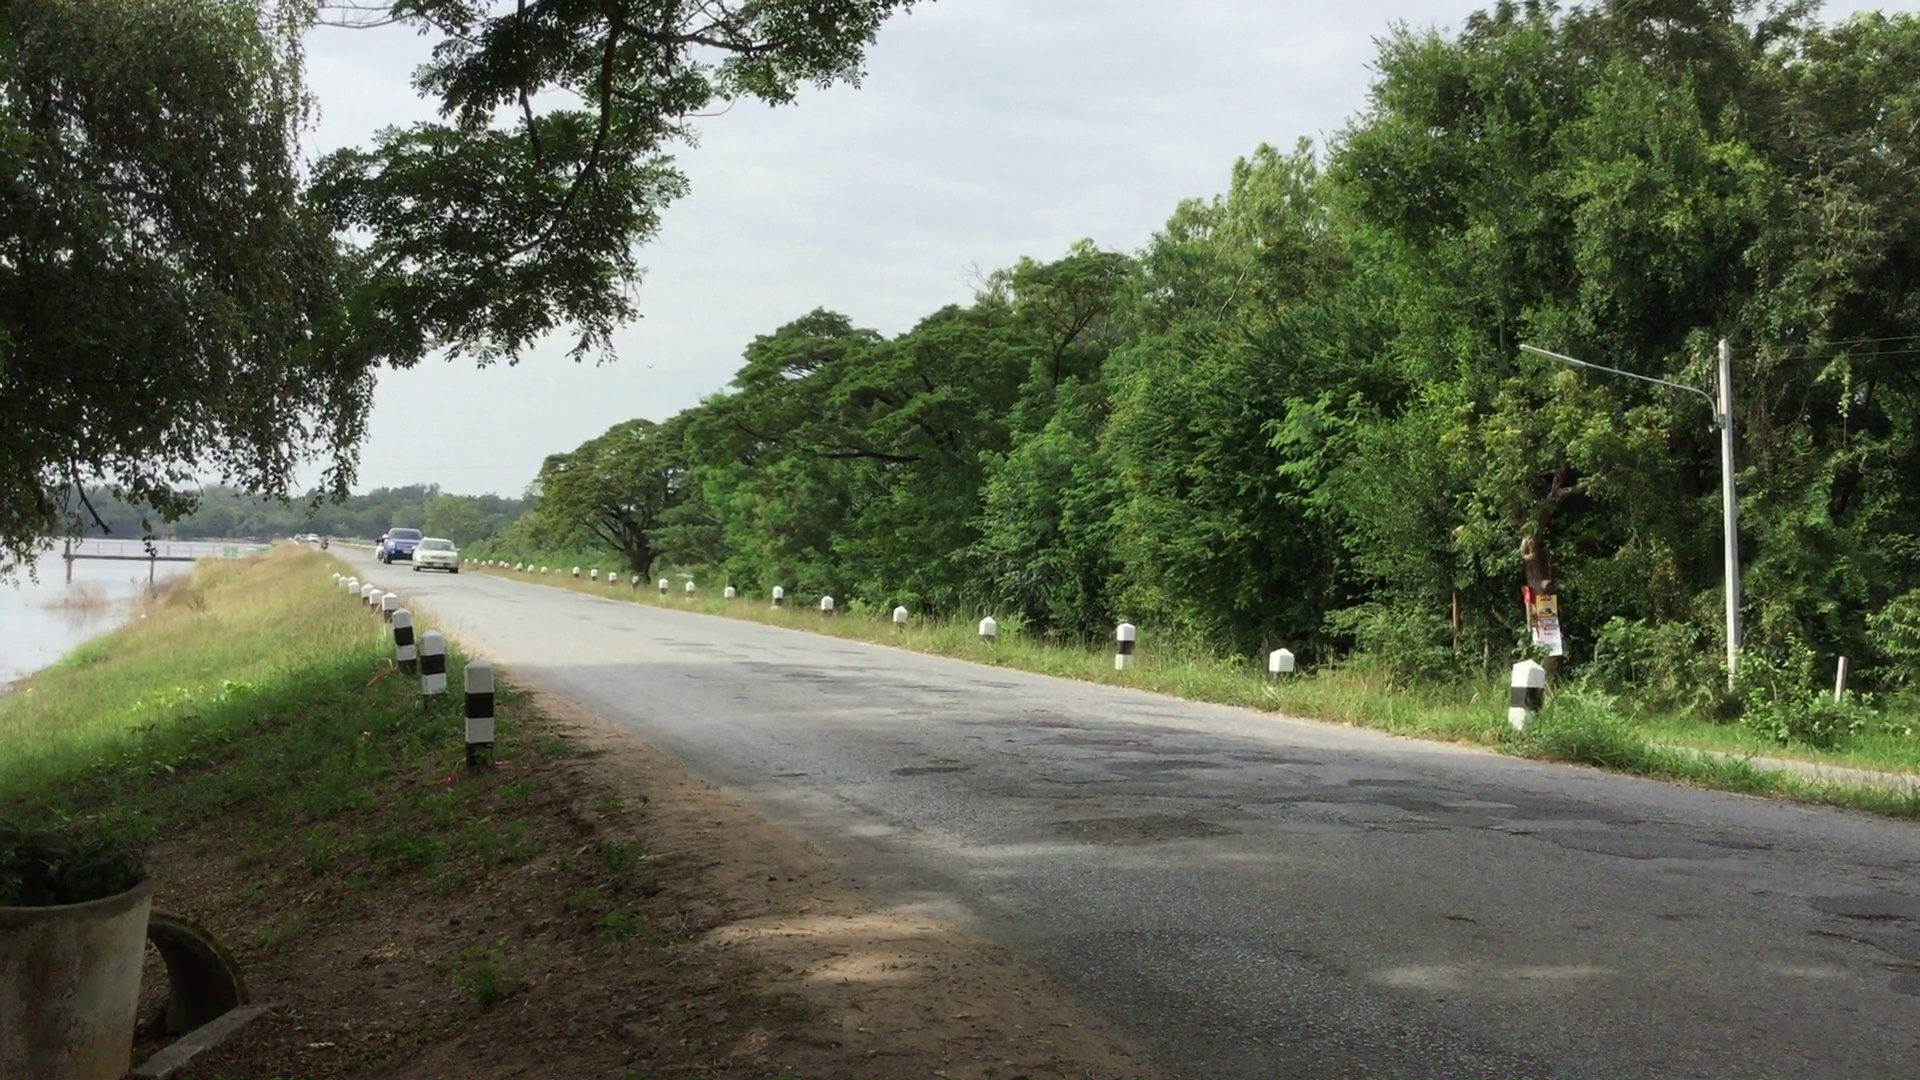car: (412, 538, 461, 571), (389, 527, 421, 562)
person: (375, 535, 390, 559)
